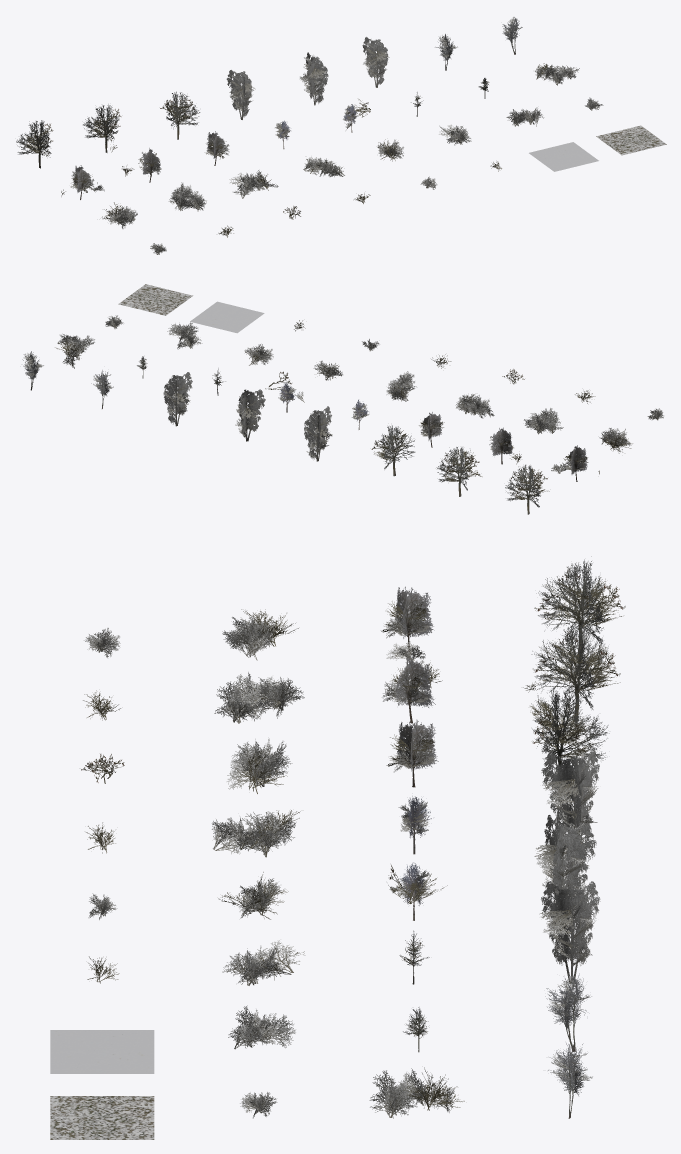
File: winter.glb
The picture shows the model from 3 angles, top to bottom: view 1: azimuth 30°, elevation 25°; view 2: azimuth 150°, elevation 25°; view 3: azimuth 270°, elevation 25°; orthographic projection. The views are drawn at different scales.
Visible parts, largest first — view 1: N_slushtex__Body, N_snowtex__Body, N_wt2__Planes, N_wt1__Planes, N_wt5__Planes, N_wt3__Planes, N_wt6__Planes, N_wt4__Planes, N_ws3__Branches, N_ws4__Branches, N_ws1__Branches, N_ws5__Branches (+6 smaller); view 2: N_slushtex__Body, N_snowtex__Body, N_wt6__Planes, N_wt4__Planes, N_wt5__Planes, N_wt1__Planes, N_wt3__Planes, N_wt2__Planes, N_ws1__Branches, N_ws3__Branches, N_ws4__Branches, N_ws5__Branches (+8 smaller); view 3: N_snowtex__Body, N_slushtex__Body, N_wt6__Planes, N_wt4__Planes, N_wt2__Planes, N_ws3__Branches, N_wt1__Planes, N_wt3__Planes, N_wt5__Planes, N_ws1__Branches, N_ws5__Branches, N_ws4__Branches (+15 smaller).
Boxes of the visible parts, x1,y1,x2,y2 form: N_slushtex__Body: [596, 125, 666, 155]; N_snowtex__Body: [529, 142, 598, 171]; N_wt2__Planes: [83, 104, 119, 152]; N_wt1__Planes: [16, 120, 51, 168]; N_wt5__Planes: [306, 52, 328, 105]; N_wt3__Planes: [165, 91, 200, 139]; N_wt6__Planes: [362, 37, 387, 87]; N_wt4__Planes: [226, 70, 251, 119]; N_ws3__Branches: [168, 182, 206, 211]; N_ws4__Branches: [229, 170, 278, 198]; N_ws1__Branches: [535, 63, 579, 85]; N_ws5__Branches: [304, 156, 343, 176]; N_slushtex__Body: [118, 284, 192, 315]; N_snowtex__Body: [190, 301, 264, 333]; N_wt6__Planes: [163, 372, 192, 426]; N_wt4__Planes: [304, 406, 331, 461]; N_wt5__Planes: [238, 389, 265, 441]; N_wt1__Planes: [505, 464, 540, 514]; N_wt3__Planes: [380, 425, 415, 476]; N_wt2__Planes: [436, 447, 472, 496]; N_ws1__Branches: [55, 334, 94, 368]; N_ws3__Branches: [524, 408, 563, 434]; N_ws4__Branches: [455, 394, 494, 418]; N_ws5__Branches: [386, 371, 416, 401]; N_snowtex__Body: [50, 1030, 154, 1073]; N_slushtex__Body: [50, 1096, 154, 1139]; N_wt6__Planes: [541, 881, 600, 983]; N_wt4__Planes: [541, 749, 599, 835]; N_wt2__Planes: [531, 621, 609, 721]; N_ws3__Branches: [214, 672, 304, 723]; N_wt1__Planes: [536, 556, 605, 654]; N_wt3__Planes: [531, 689, 609, 779]; N_wt5__Planes: [544, 815, 596, 897]; N_ws1__Branches: [369, 1067, 464, 1118]; N_ws5__Branches: [211, 810, 300, 857]; N_ws4__Branches: [226, 737, 292, 793].
Bounding box in the file's own units: 462 × 42.8 × 223.
Materials: 11 (11 with a texture image).
